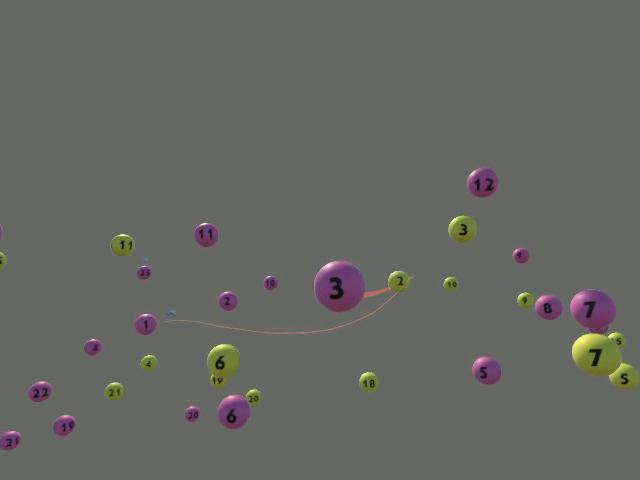ball_01_pink: (134, 314, 156, 335)
ball_02_pink: (217, 291, 237, 311)
ball_02_yellow: (388, 271, 409, 292)
ball_03_pink: (314, 261, 364, 312)
ball_03_yellow: (448, 216, 476, 243)
ball_04_pink: (83, 339, 102, 356)
ball_04_yellow: (140, 355, 158, 371)
ball_05_pink: (472, 356, 500, 384)
ball_05_yellow: (608, 362, 639, 389)
ball_06_pink: (217, 395, 249, 429)
ball_06_yellow: (206, 343, 239, 378)
ball_07_pink: (570, 288, 616, 329)
ball_07_yellow: (571, 332, 621, 375)
ball_08_pink: (534, 294, 562, 320)
ball_09_pink: (511, 247, 529, 263)
ball_09_yellow: (516, 292, 533, 308)
ball_10_pink: (263, 275, 277, 290)
ball_10_yellow: (442, 277, 458, 291)
ball_11_pink: (194, 223, 218, 247)
ball_11_yellow: (110, 234, 134, 256)
ball_12_pink: (467, 168, 498, 197)
ball_14_pink: (52, 415, 75, 436)
ball_18_yellow: (358, 372, 377, 392)
ball_19_yellow: (209, 373, 226, 387)
ball_20_pink: (184, 406, 199, 422)
ball_20_yellow: (245, 388, 261, 405)
ball_21_pink: (1, 431, 20, 450)
ball_21_yellow: (103, 381, 123, 400)
ball_22_pink: (29, 381, 52, 402)
ball_25_pink: (136, 266, 151, 279)
ball_unknown: (607, 331, 625, 348), (588, 323, 608, 334), (0, 251, 6, 269), (0, 224, 3, 240)
